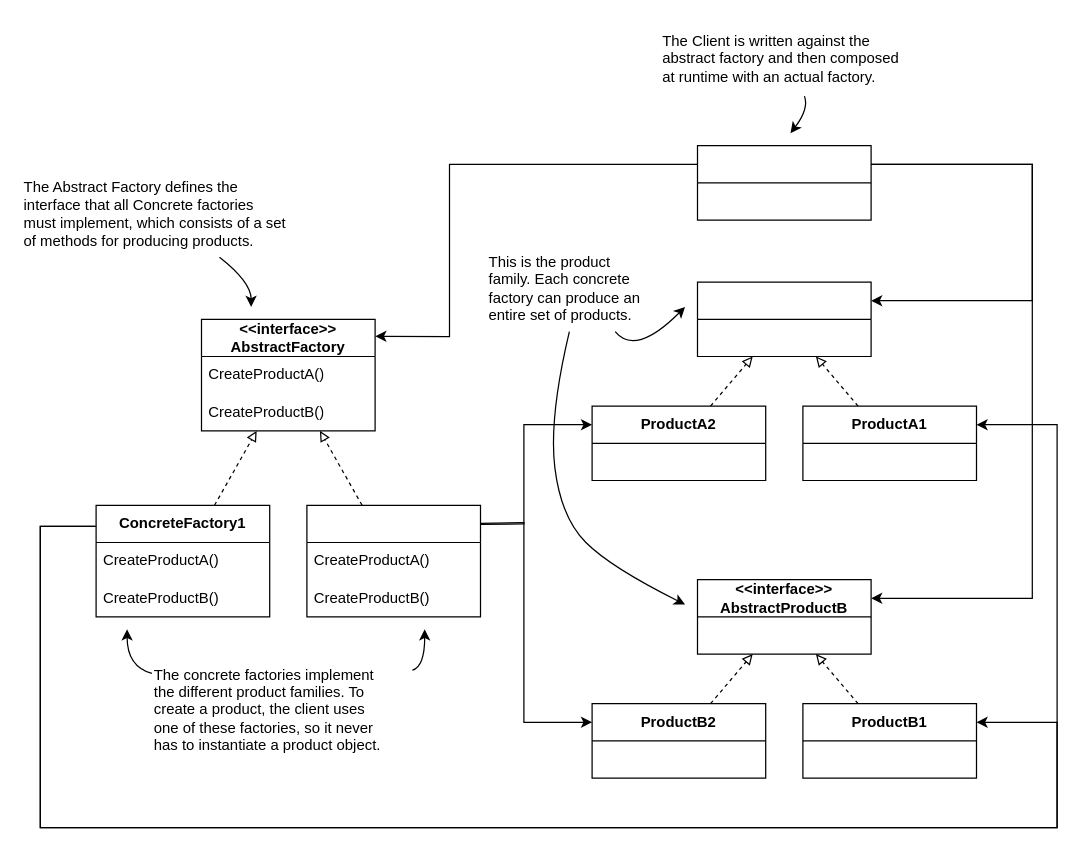
The diagram is 1089 pixels wide and 859 high, and some of its shapes have lost their labels. The shapes that lost their labels are listed below. From the top down, each one's box as (x1, y1, x2, y2) in pixels, then its label:
(696, 144, 871, 220): Client
(696, 281, 871, 356): <<interface>> AbstractProductA
(306, 504, 480, 617): ConcreteFactory2
